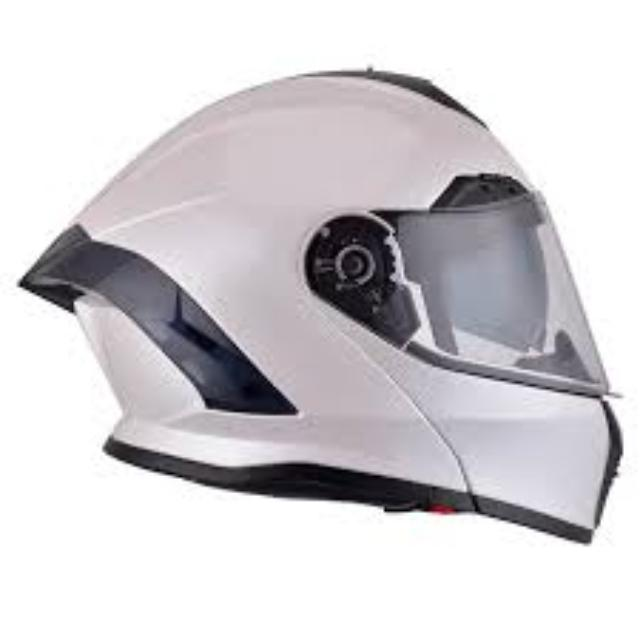motorcycle-helmets: (23, 68, 632, 566)
